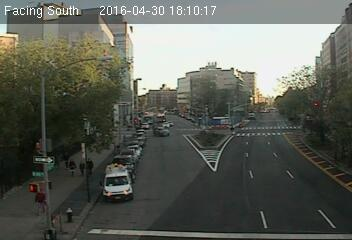neg: (195, 39, 230, 85), (189, 120, 218, 159), (273, 38, 301, 75), (296, 85, 322, 120), (145, 58, 170, 91), (26, 142, 51, 174), (111, 100, 134, 131), (10, 85, 33, 115), (60, 69, 81, 96), (253, 85, 270, 107), (119, 151, 135, 172), (249, 144, 261, 159), (65, 207, 76, 222)
pos: (32, 191, 50, 215), (65, 159, 79, 178), (76, 160, 90, 179)
